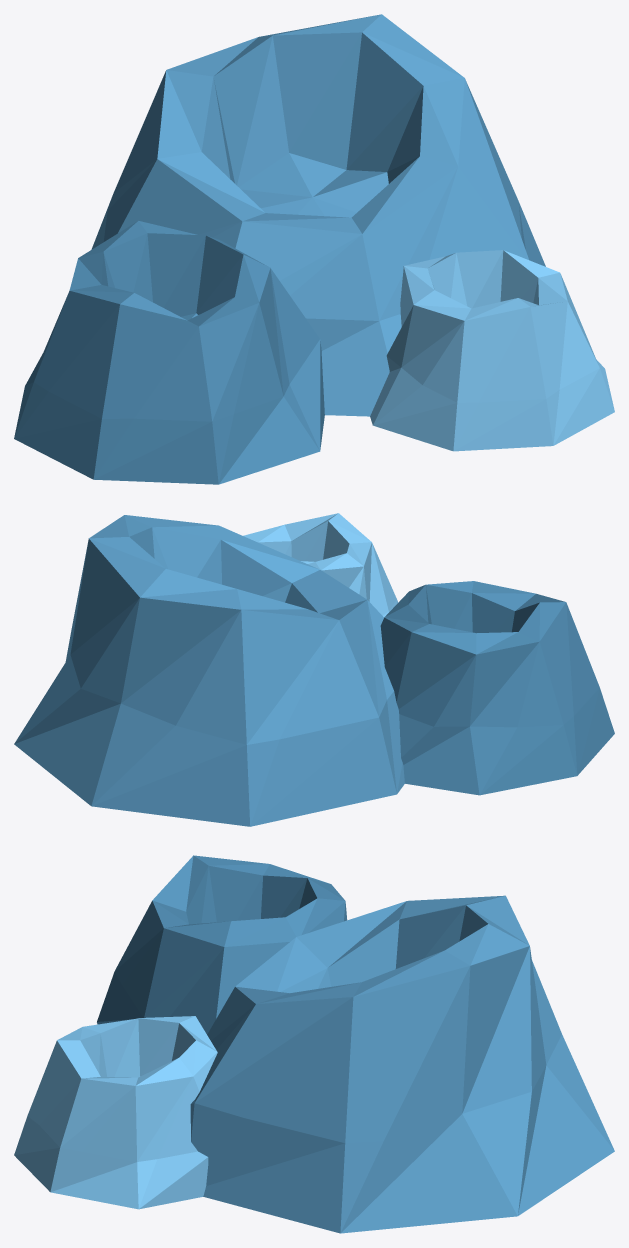
The model's file is SP_Plant02.fbx.
The picture shows the model from 3 angles, top to bottom: view 1: azimuth 30°, elevation 25°; view 2: azimuth 150°, elevation 25°; view 3: azimuth 270°, elevation 25°; orthographic projection. The views are drawn at different scales.
Parts seen in each view (by area): view 1: SP_Plant02; view 2: SP_Plant02; view 3: SP_Plant02.
Part boxes in pixels (x1=…): SP_Plant02: x1=14, y1=14, x2=614, y2=484; SP_Plant02: x1=14, y1=513, x2=614, y2=826; SP_Plant02: x1=14, y1=855, x2=614, y2=1233.
Bounding box in the file's own units: 73.02 × 29.06 × 71.21.
1 material, 1 textured.
